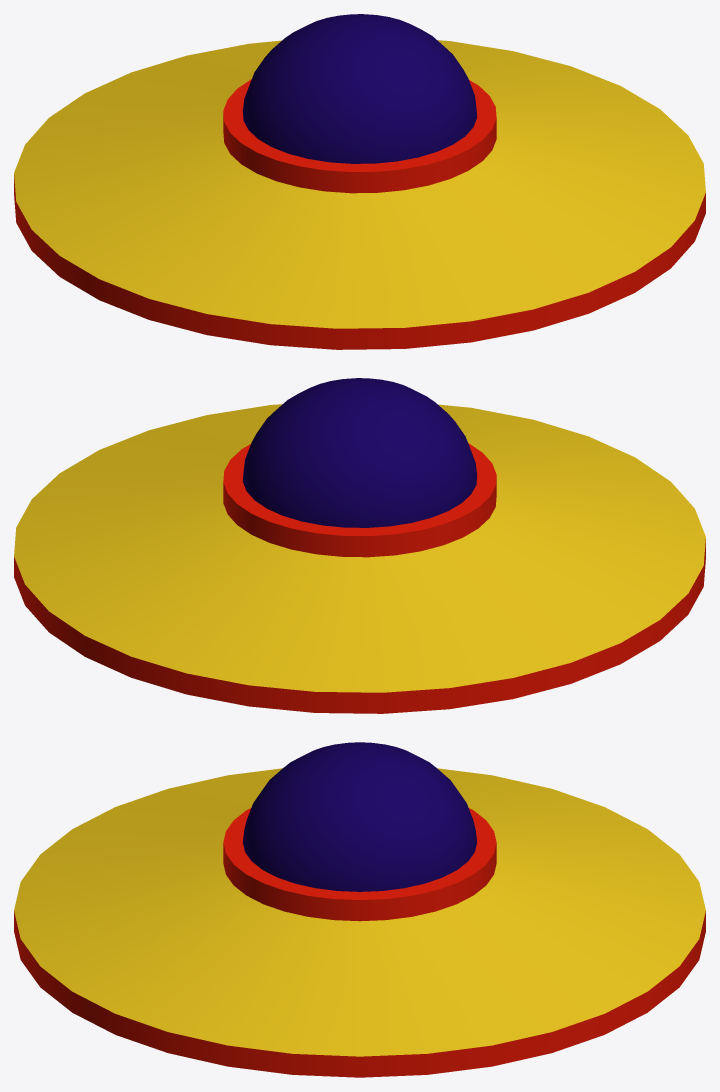
File: ufo.glb
3 renders of one model, top to bottom at view 1: azimuth 30°, elevation 25°; view 2: azimuth 150°, elevation 25°; view 3: azimuth 270°, elevation 25°, orthographic.
Visible parts, largest first — view 1: UFO; view 2: UFO; view 3: UFO.
Part boxes in pixels (left/top/right/bottom): UFO: left=14, top=14, right=705, bottom=349; UFO: left=14, top=378, right=705, bottom=713; UFO: left=14, top=742, right=705, bottom=1077.
Size of the model in its own units: 5.06 by 2 by 5.06.
